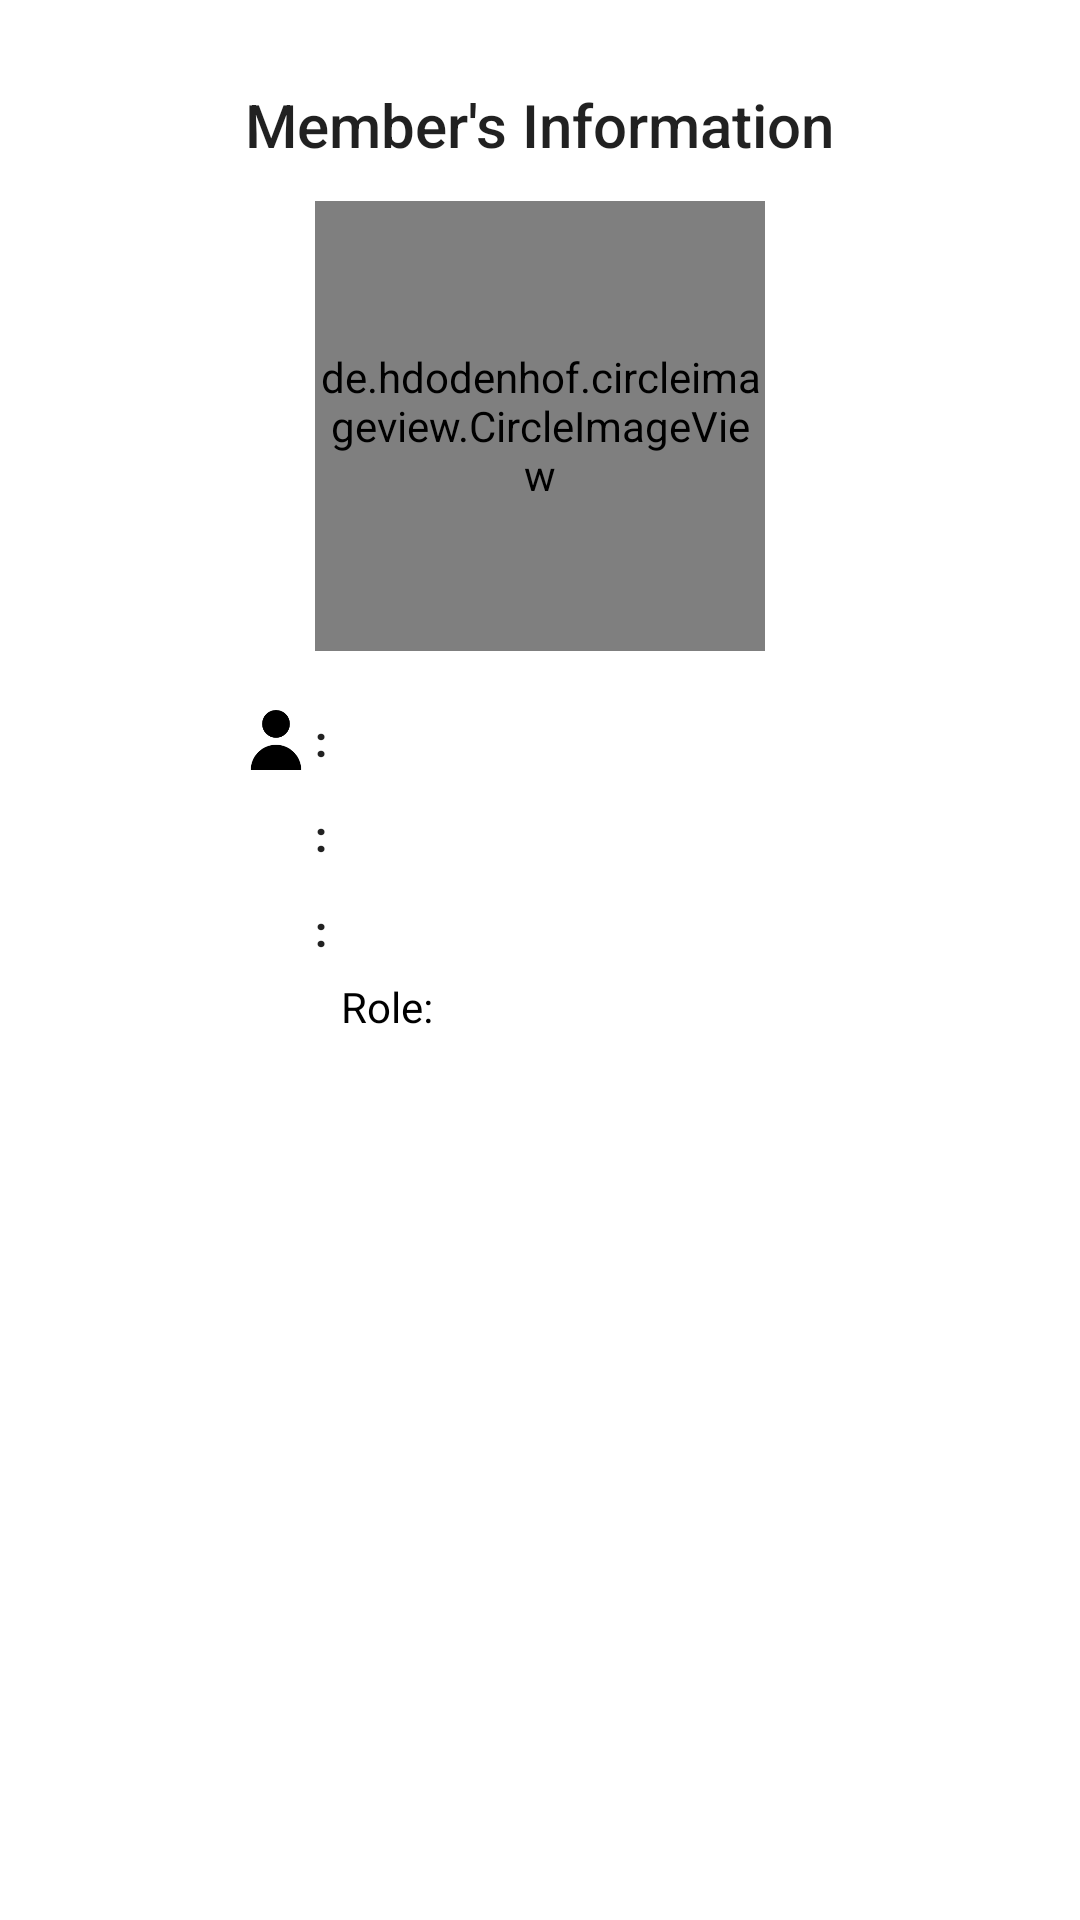

Icon click points for this 1080*1920 phone screenshot, format [x,y]:
user: [276,740]
